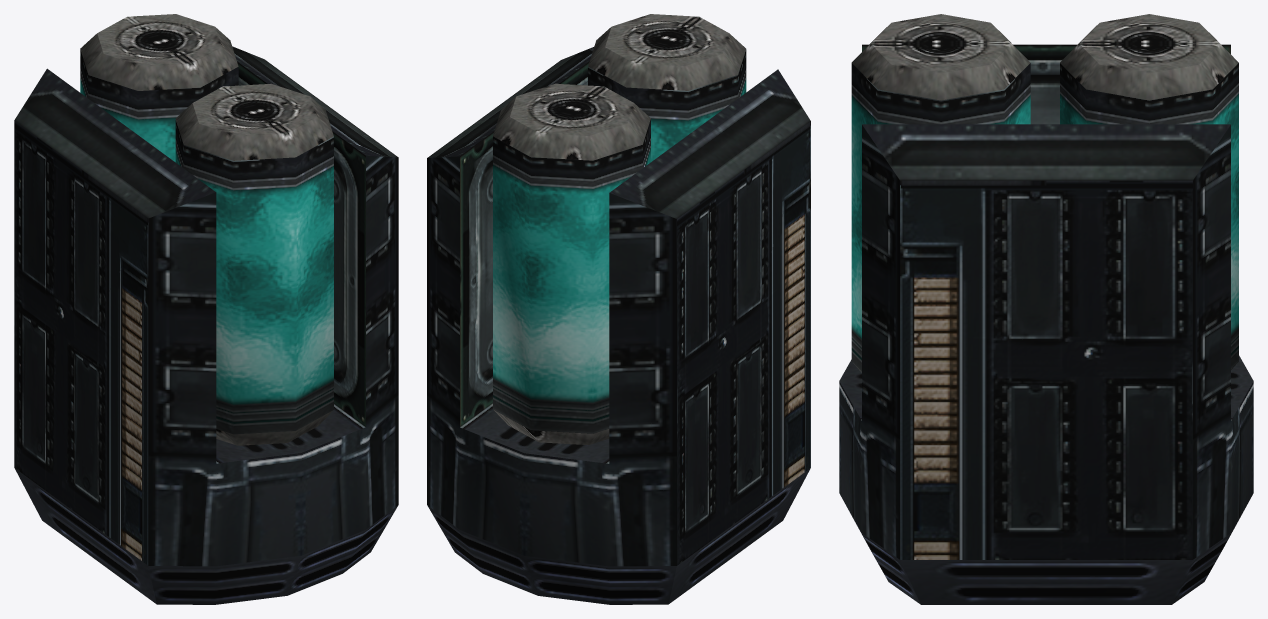
Rendered from Battery_small_01.FBX.
3 renders of one model, left to right at view 1: azimuth 30°, elevation 25°; view 2: azimuth 150°, elevation 25°; view 3: azimuth 270°, elevation 25°, orthographic. The views are drawn at different scales.
Parts seen in each view (by area): view 1: Battery_small_01; view 2: Battery_small_01; view 3: Battery_small_01.
Part boxes in pixels (x1,y1,x2,y2): Battery_small_01: (14, 14, 398, 604); Battery_small_01: (427, 14, 810, 604); Battery_small_01: (839, 14, 1253, 604).
Bounding box in the file's own units: 72.08 × 127 × 94.64.
